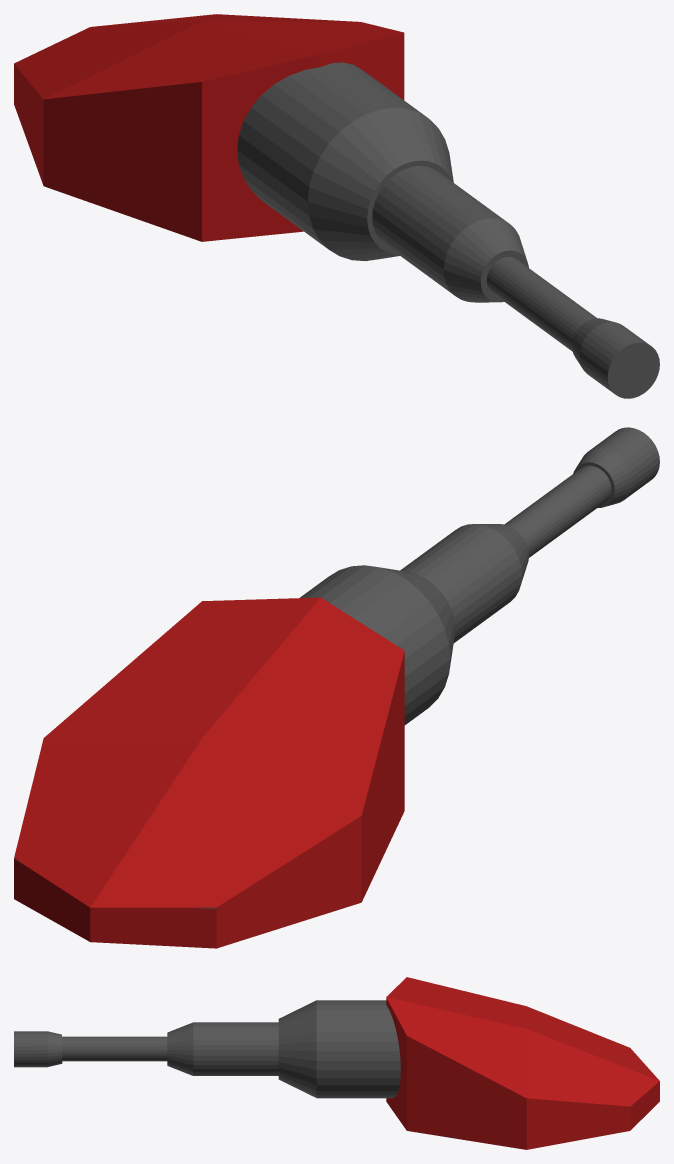
The model's file is playerTurret.obj.
3 renders of one model, top to bottom at view 1: azimuth 30°, elevation 25°; view 2: azimuth 150°, elevation 25°; view 3: azimuth 270°, elevation 25°, orthographic. The views are drawn at different scales.
Visible parts, largest first — view 1: 砲台; view 2: 砲台; view 3: 砲台.
Boxes of the visible parts, x1,y1,x2,y2 form: 砲台: (14,14,659,398); 砲台: (14,427,659,948); 砲台: (14,977,659,1149).
Size of the model in its own units: 1.07 by 0.5787 by 3.17.
Materials: 5 (5 with a texture image).
